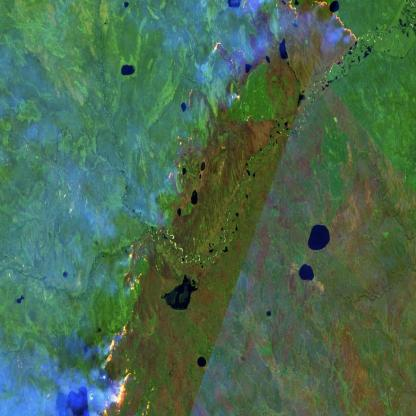fire: (89, 0, 358, 416)
